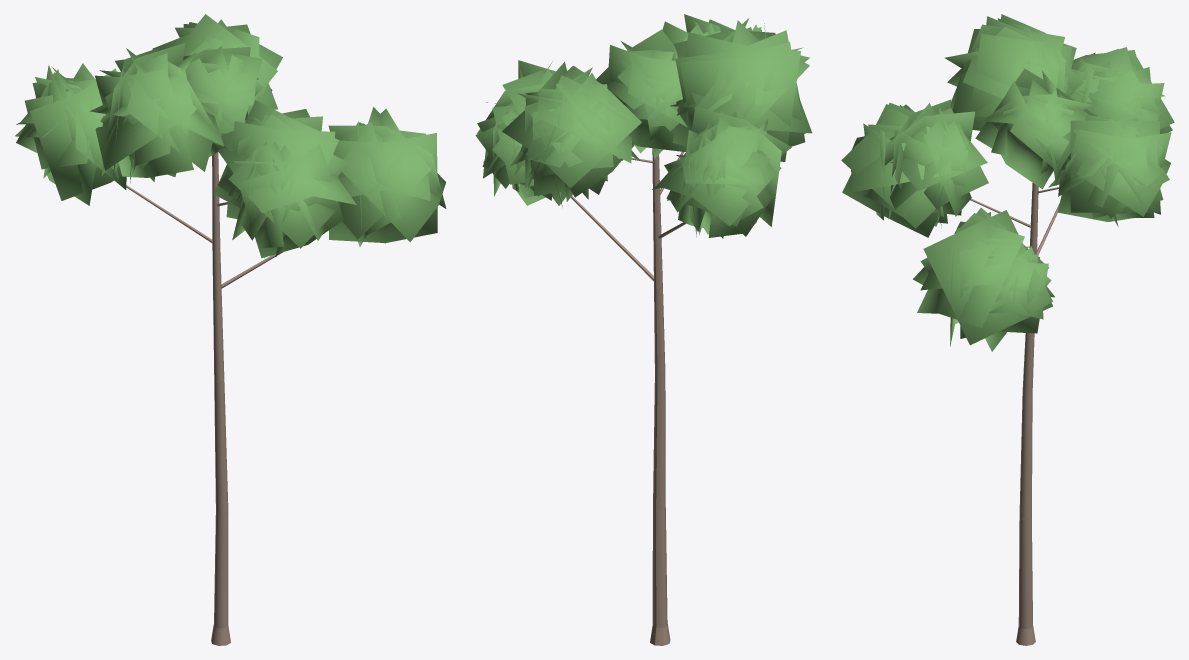
File: v15-pohon-lurus.glb
The picture shows the model from 3 angles, left to right: view 1: azimuth 30°, elevation 25°; view 2: azimuth 150°, elevation 25°; view 3: azimuth 270°, elevation 25°; orthographic projection. The views are drawn at different scales.
Parts seen in each view (by area): view 1: v15-pohon-lurus_daun, v15-pohon-lurus_kulit; view 2: v15-pohon-lurus_daun, v15-pohon-lurus_kulit; view 3: v15-pohon-lurus_daun, v15-pohon-lurus_kulit.
Boxes of the visible parts, bbox=[...] form: v15-pohon-lurus_daun: bbox=[15, 14, 446, 258]; v15-pohon-lurus_kulit: bbox=[126, 152, 282, 645]; v15-pohon-lurus_daun: bbox=[475, 14, 812, 238]; v15-pohon-lurus_kulit: bbox=[564, 149, 686, 645]; v15-pohon-lurus_daun: bbox=[841, 14, 1174, 351]; v15-pohon-lurus_kulit: bbox=[970, 183, 1059, 645].
Size of the model in its own units: 12.91 by 21.17 by 10.94.
